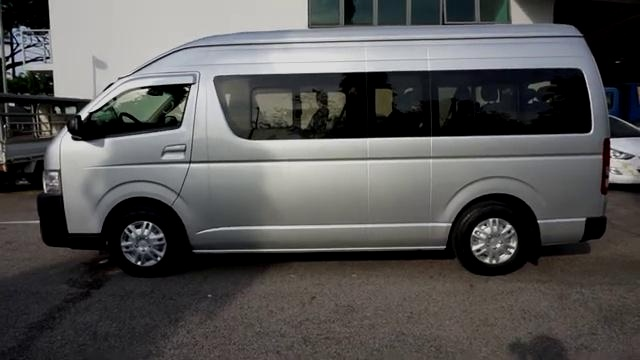van: (34, 20, 616, 283)
